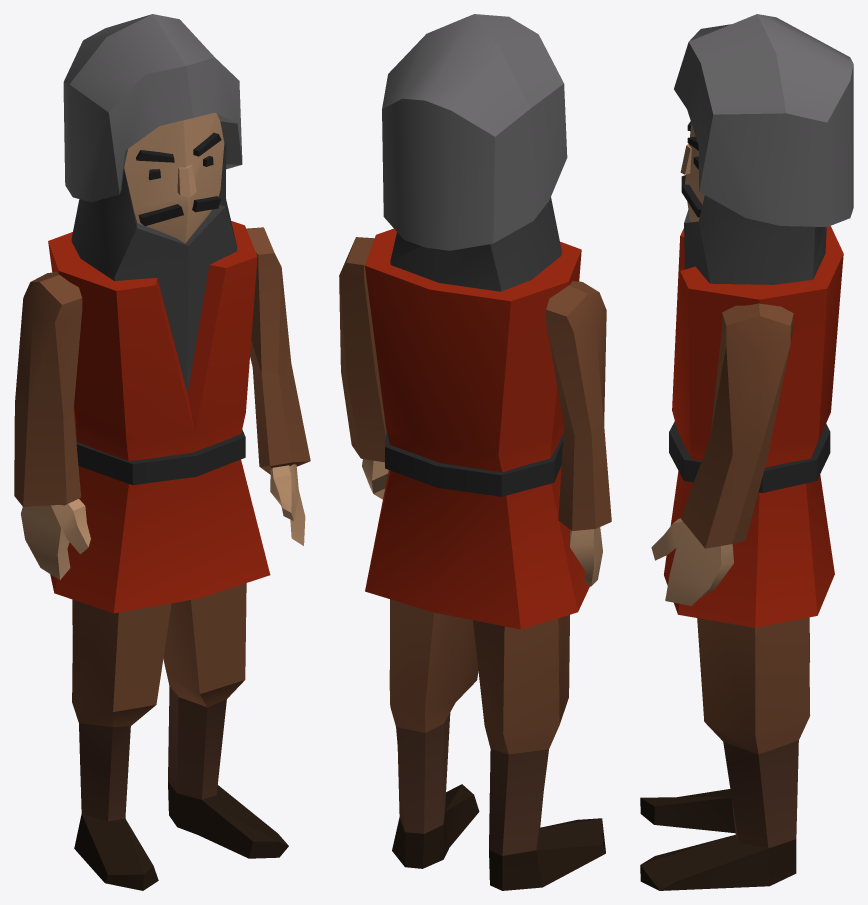
Rendered from Archer_1.fbx.
3 views of the same model, side by side, from view 1: azimuth 30°, elevation 25°; view 2: azimuth 150°, elevation 25°; view 3: azimuth 270°, elevation 25° (orthographic). The views are drawn at different scales.
Parts seen in each view (by area): view 1: Archer_1; view 2: Archer_1; view 3: Archer_1.
Part boxes in pixels (x1,y1,x2,y2): Archer_1: (14, 14, 310, 890); Archer_1: (339, 14, 611, 890); Archer_1: (640, 14, 853, 890).
Size of the model in its own units: 39.71 by 118 by 27.31.
